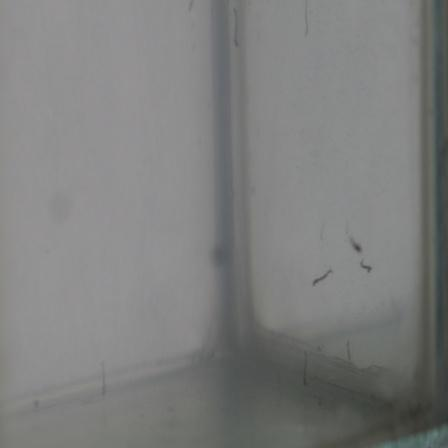Jentik-Nyamuk: (309, 263, 335, 291), (299, 349, 310, 388)
